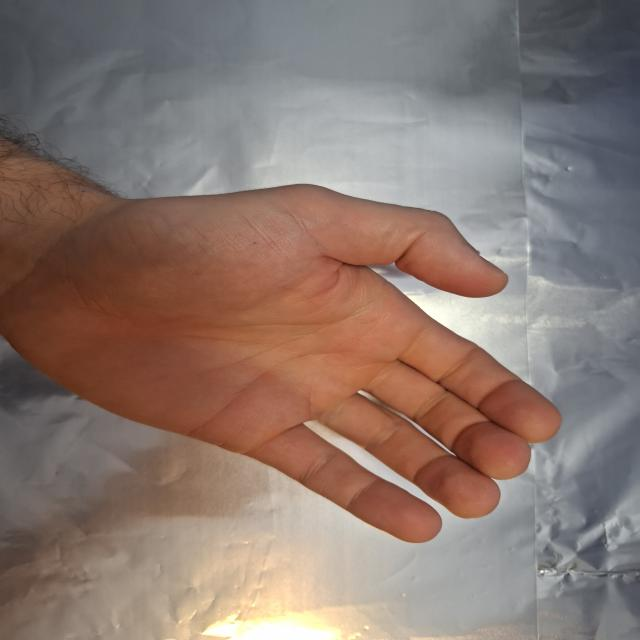glove_off: (9, 163, 565, 544)
